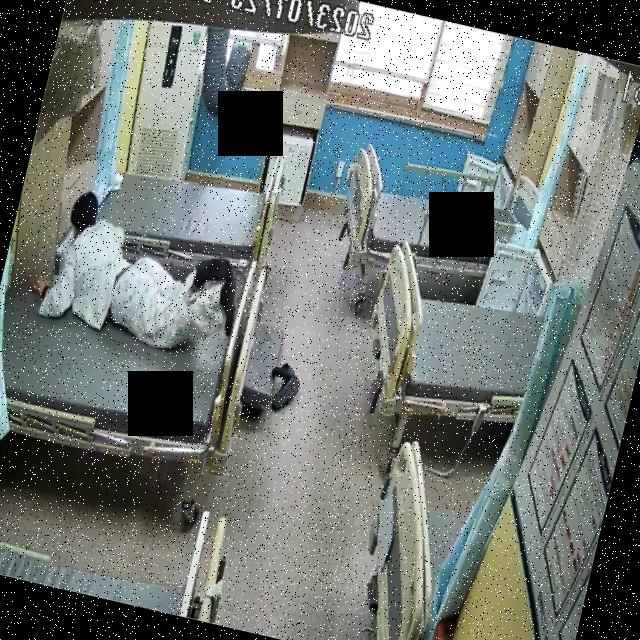bed: (0, 206, 274, 480), (76, 102, 292, 296), (352, 240, 549, 440), (334, 146, 524, 296)
danger: (27, 182, 248, 364)
patient: (26, 183, 248, 361)
